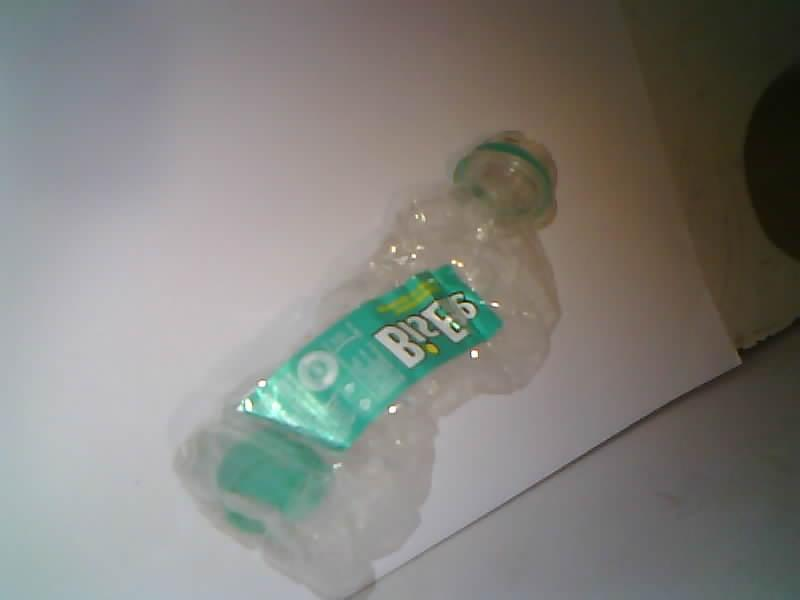non-biodegradable: (174, 132, 559, 599)
